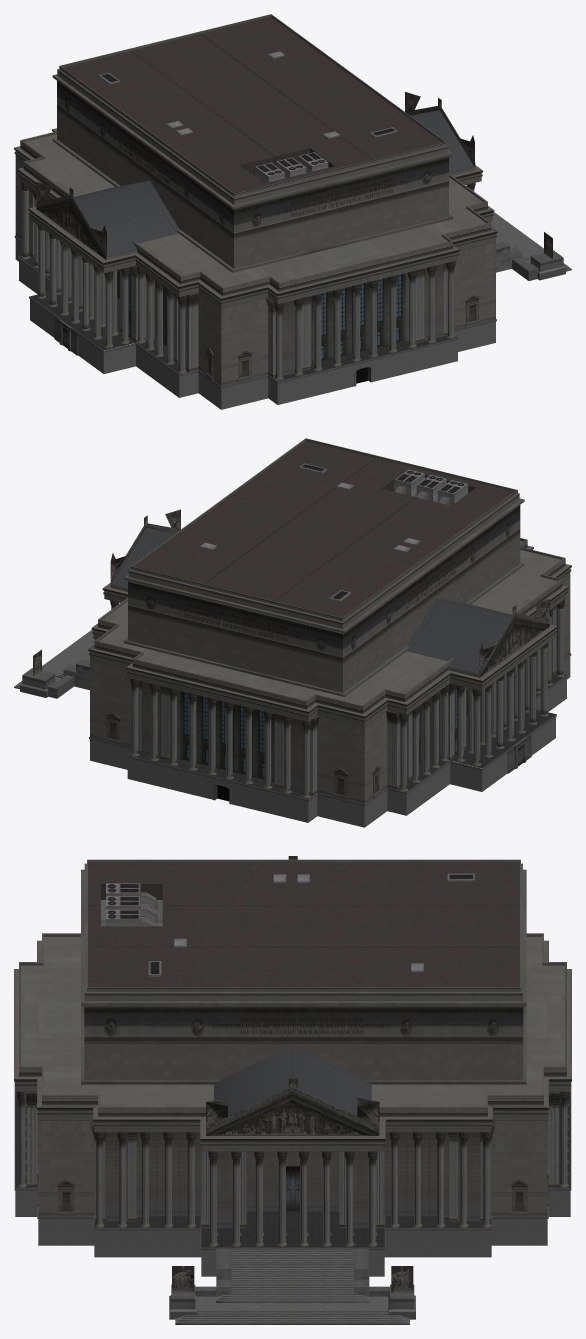
The picture shows the model from 3 angles, top to bottom: view 1: azimuth 30°, elevation 25°; view 2: azimuth 150°, elevation 25°; view 3: azimuth 270°, elevation 25°; orthographic projection. The views are drawn at different scales.
Parts seen in each view (by area): view 1: bina.011; view 2: bina.011; view 3: bina.011.
Part boxes in pixels (box(x1,y1,x2,y2)): bina.011: box(14, 14, 571, 409); bina.011: box(14, 438, 571, 827); bina.011: box(14, 856, 571, 1324).
Bounding box in the file's own units: 44.55 × 18.03 × 37.79.
1 material, 1 textured.
